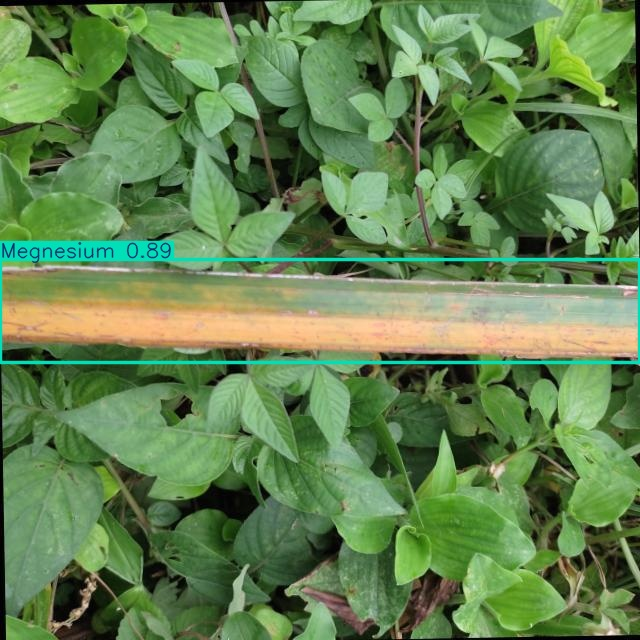Megnesium: (0, 259, 639, 362)
